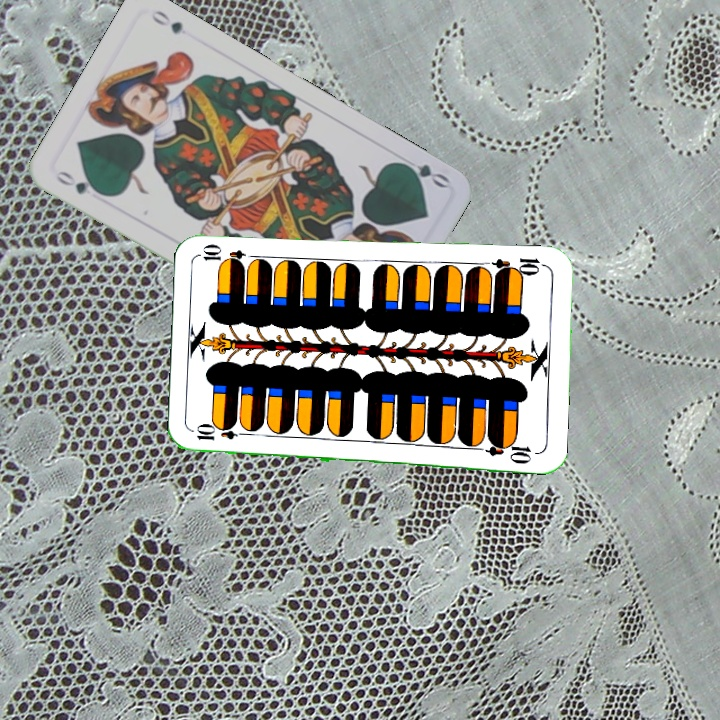E10: (489, 254, 548, 279), (192, 424, 251, 443)
GO: (394, 158, 452, 191), (51, 166, 107, 199)
